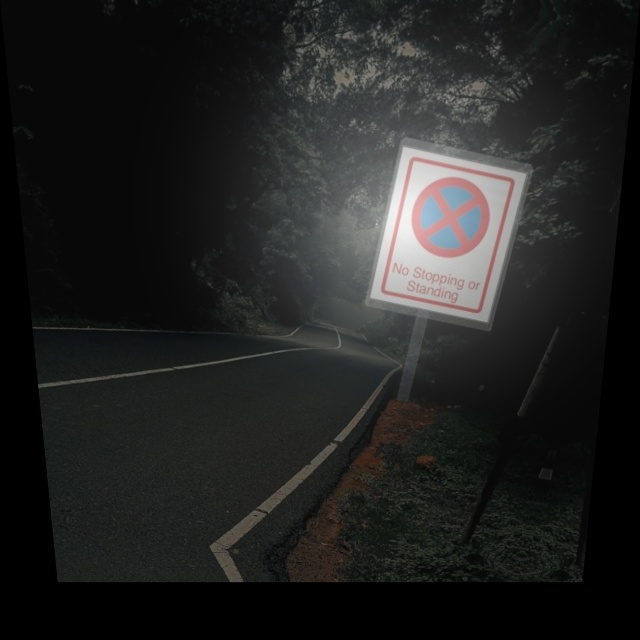No_Stopping_or_Standing: (392, 161, 510, 276)
